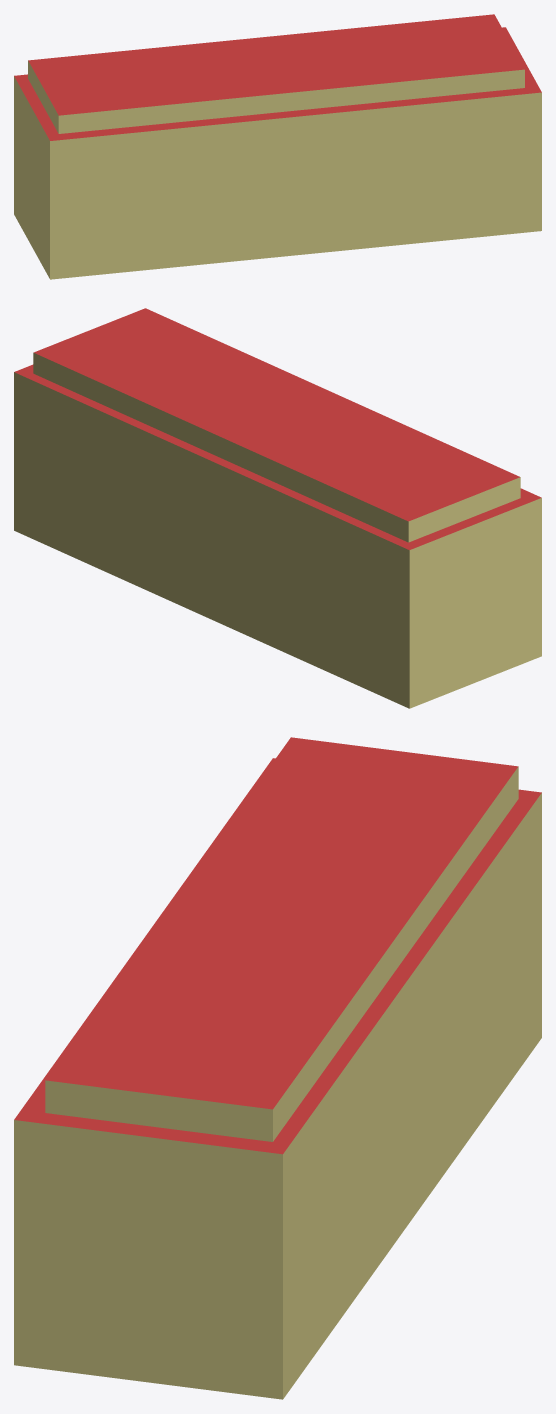
3 renders of one model, top to bottom at view 1: azimuth 30°, elevation 25°; view 2: azimuth 150°, elevation 25°; view 3: azimuth 270°, elevation 25°, orthographic. The views are drawn at different scales.
Visible parts, largest first — view 1: group_6, group_4, group_5, group_3; view 2: group_6, group_4, group_5, group_3; view 3: group_6, group_4, group_5, group_3.
Boxes of the visible parts, <box> form: group_6: <box>14,76,541,279</box>; group_4: <box>28,14,524,115</box>; group_5: <box>28,60,524,133</box>; group_3: <box>14,27,541,140</box>; group_6: <box>14,372,541,708</box>; group_4: <box>34,308,519,521</box>; group_5: <box>33,352,520,542</box>; group_3: <box>14,364,541,549</box>; group_6: <box>14,793,541,1399</box>; group_4: <box>46,737,518,1109</box>; group_5: <box>45,766,518,1141</box>; group_3: <box>14,758,541,1154</box>.
Bounding box in the file's own units: 47.59 × 26.8 × 15.57.
